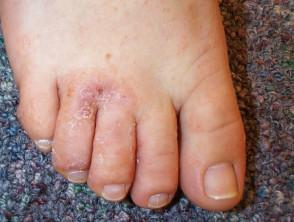Eczema: (85, 79, 116, 100), (185, 153, 208, 177), (190, 53, 214, 75), (112, 84, 131, 111), (78, 100, 100, 122), (98, 47, 122, 66), (91, 10, 116, 27), (154, 27, 174, 48), (59, 121, 85, 137), (187, 19, 206, 38), (95, 96, 115, 114), (171, 39, 191, 57), (65, 88, 86, 105), (21, 35, 42, 52), (129, 148, 146, 169), (153, 6, 180, 19), (14, 107, 32, 126), (13, 56, 31, 75), (163, 142, 181, 161), (165, 69, 184, 87), (150, 71, 168, 90), (110, 8, 138, 20), (111, 144, 130, 161), (33, 116, 50, 132), (28, 97, 44, 114), (58, 163, 77, 177), (195, 114, 207, 136), (122, 31, 142, 44), (128, 119, 144, 135), (50, 149, 64, 167), (185, 0, 197, 21), (95, 142, 107, 162), (95, 130, 111, 145), (75, 152, 88, 169), (111, 112, 123, 130), (40, 121, 50, 139), (59, 13, 74, 25), (80, 19, 85, 49), (48, 51, 60, 61), (240, 130, 246, 149)
